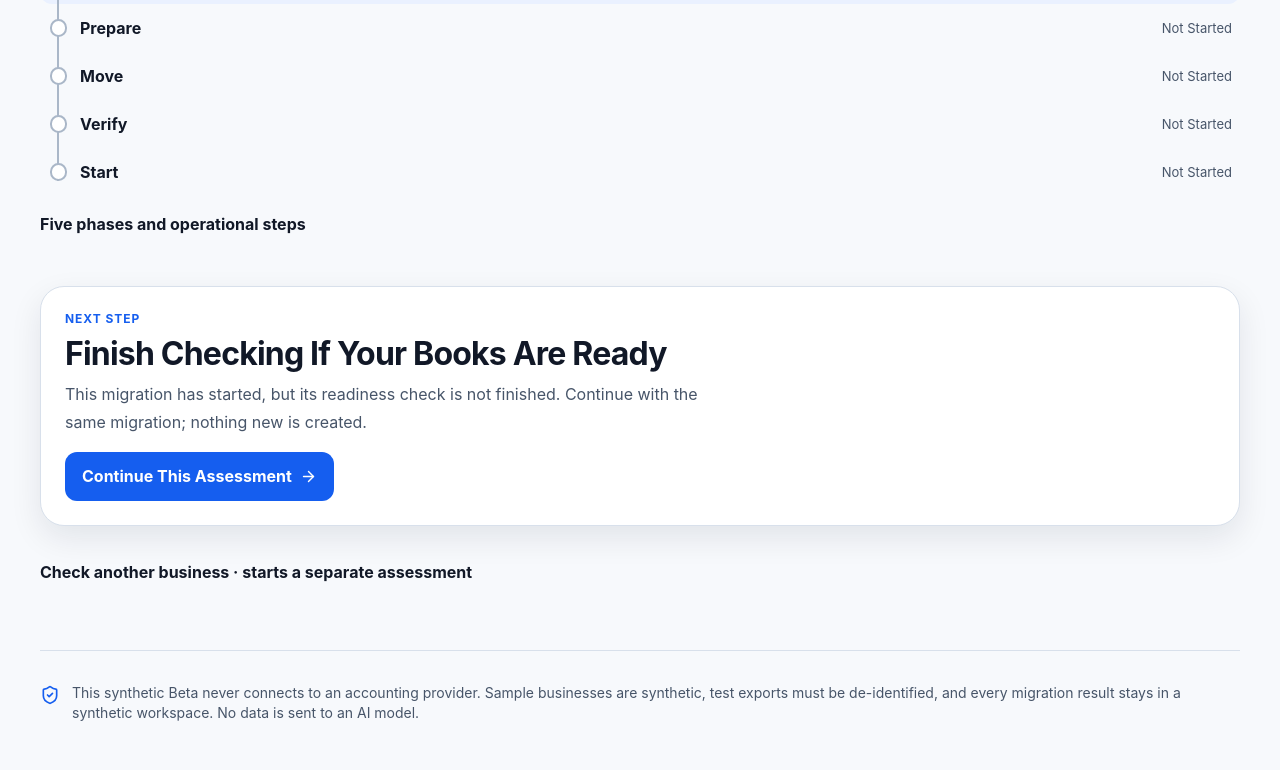
Scenario: DiscoverAssessExperience › resumes a CREATED migration in the same session instead of creating a new one
(page scrolled)
Click the button "Continue This Assessment": [199, 476] box [65,452,334,501]
(page scrolled)
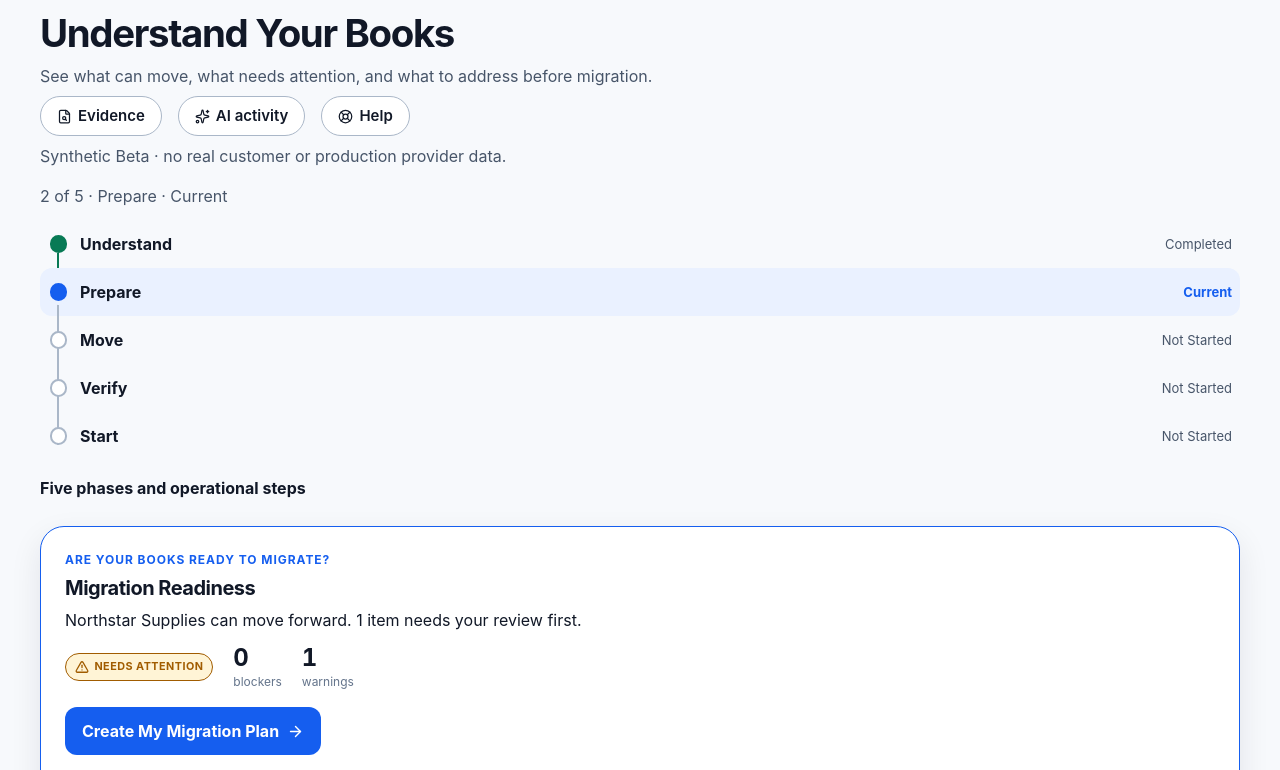
Now the heading "Migration Readiness" is shown, box [65,576,255,600]
